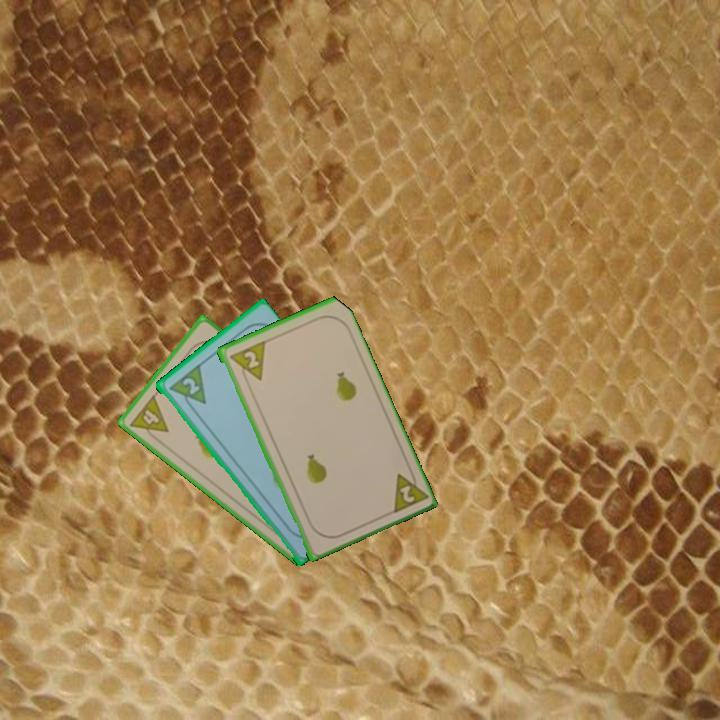2p: (387, 464, 429, 517), (178, 374, 202, 398), (240, 347, 262, 371)
4p: (126, 391, 171, 446)
